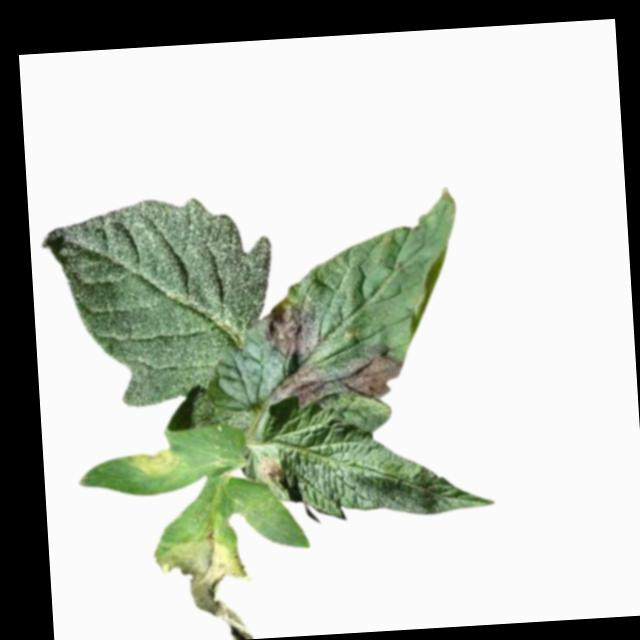Late_blight: (148, 527, 255, 640), (328, 340, 406, 403), (255, 294, 324, 358), (264, 363, 326, 409), (120, 445, 180, 480), (255, 453, 284, 484)
